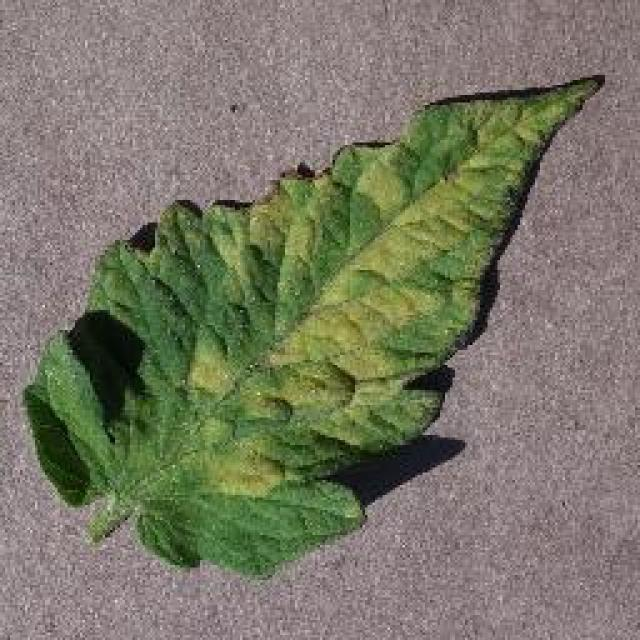Tomato___Leaf_Mold: (20, 75, 605, 582)
